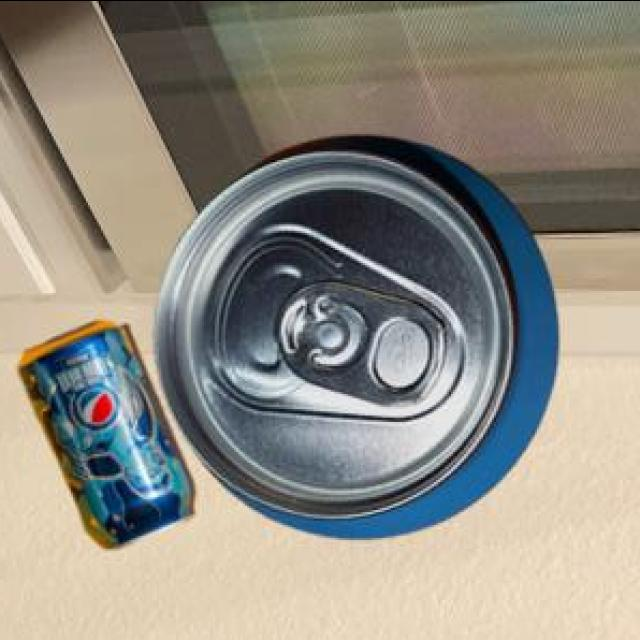logam: (158, 132, 562, 534), (23, 317, 199, 544)
